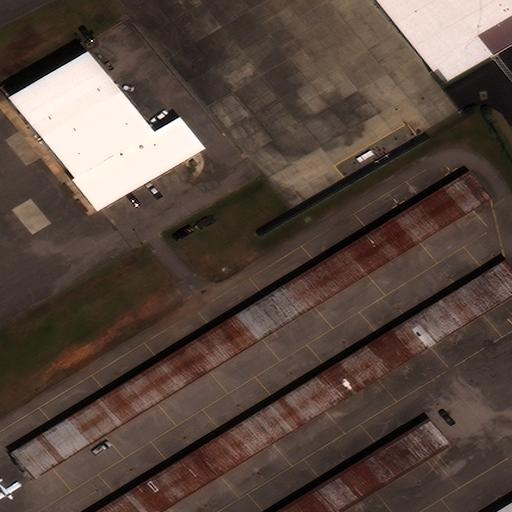Small Civil Transport: (0, 481, 21, 502)
